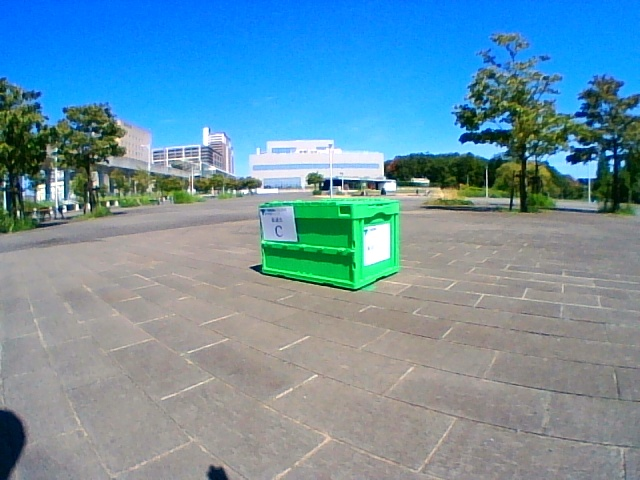green_box: (258, 198, 400, 288)
tag_c: (264, 209, 293, 241)
